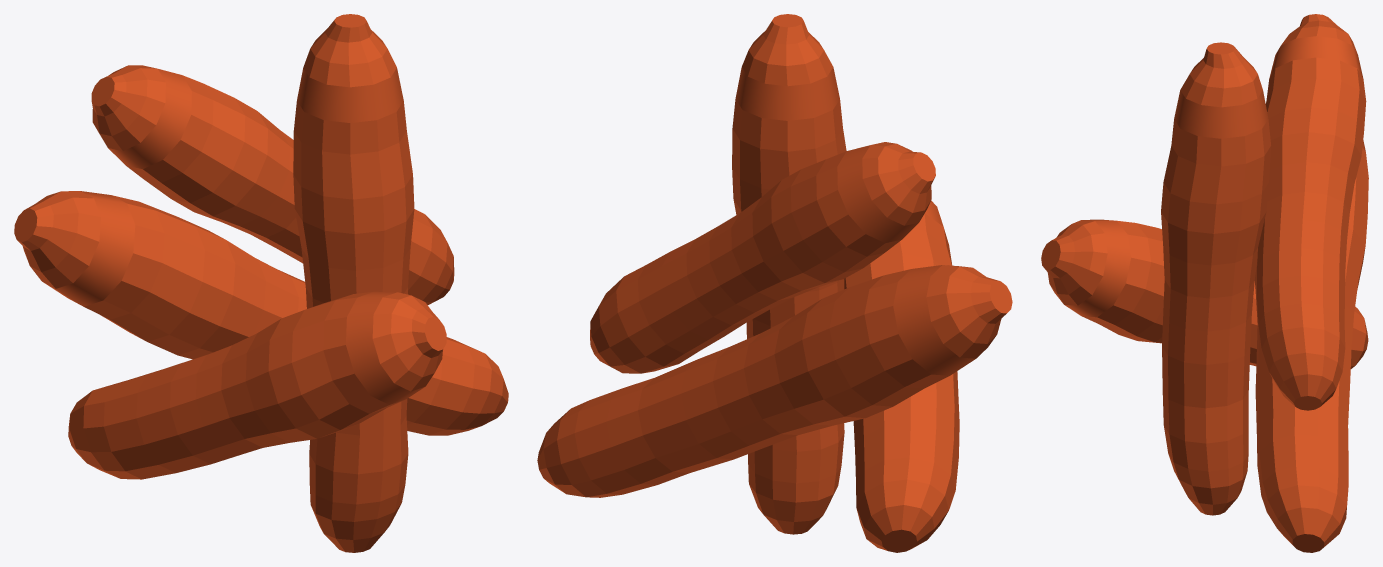
File: Carrots.FBX
3 views of the same model, side by side, from view 1: azimuth 30°, elevation 25°; view 2: azimuth 150°, elevation 25°; view 3: azimuth 270°, elevation 25° (orthographic). The views are drawn at different scales.
Parts seen in each view (by area): view 1: Carrot, Carrot001, Carrot003, Carrot002; view 2: Carrot003, Carrot002, Carrot001, Carrot; view 3: Carrot001, Carrot002, Carrot003, Carrot.
Boxes of the visible parts, bbox=[...] form: Carrot: bbox=[68, 291, 446, 479]; Carrot001: bbox=[293, 14, 414, 552]; Carrot003: bbox=[14, 191, 508, 435]; Carrot002: bbox=[91, 65, 454, 304]; Carrot003: bbox=[537, 265, 1012, 497]; Carrot002: bbox=[590, 142, 935, 373]; Carrot001: bbox=[732, 14, 846, 534]; Carrot: bbox=[844, 200, 959, 552]; Carrot001: bbox=[1161, 42, 1270, 515]; Carrot002: bbox=[1257, 14, 1366, 410]; Carrot003: bbox=[1254, 140, 1368, 552]; Carrot: bbox=[1041, 219, 1368, 368].
Bounding box in the file's own units: 25.92 × 26.81 × 17.3.
